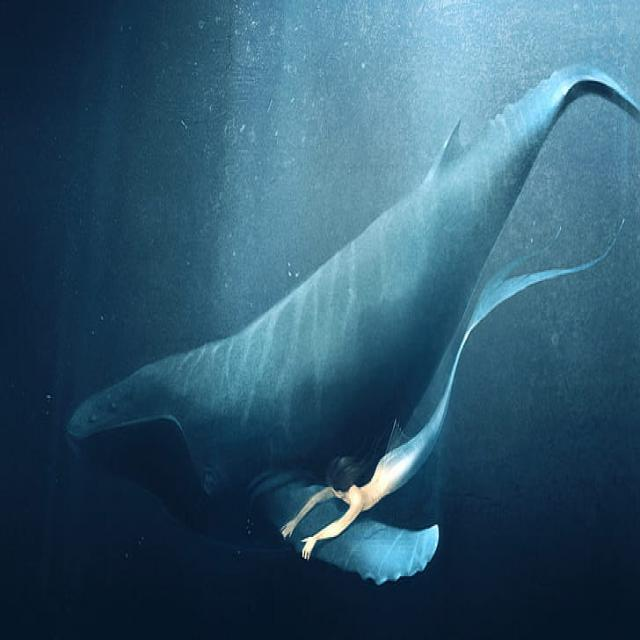blue_whale: (52, 62, 640, 569)
